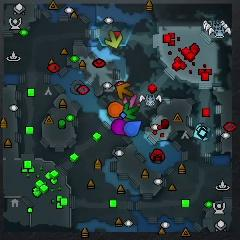p1: (124, 120, 142, 137)
p3: (112, 119, 128, 136)
p5: (107, 101, 125, 117)
x1: (124, 94, 141, 107)
x2: (104, 31, 123, 48)
x3: (194, 125, 212, 141)
x4: (124, 103, 139, 119)
x5: (116, 83, 133, 99)
